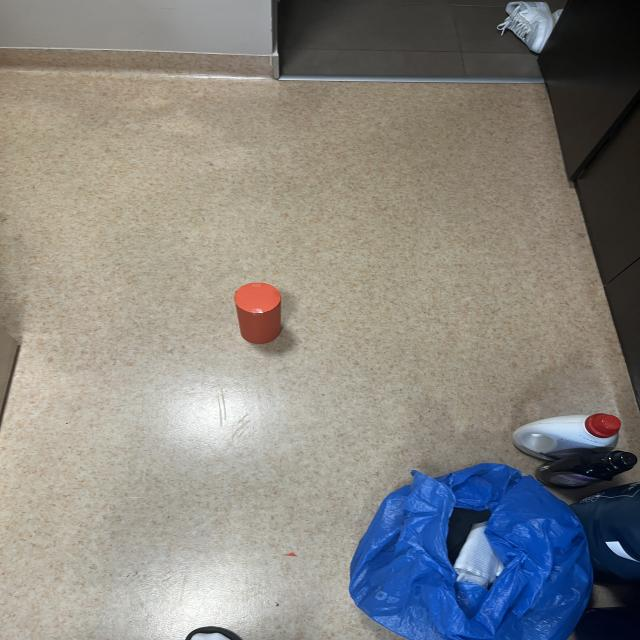przeszkoda: (234, 283, 281, 344)
